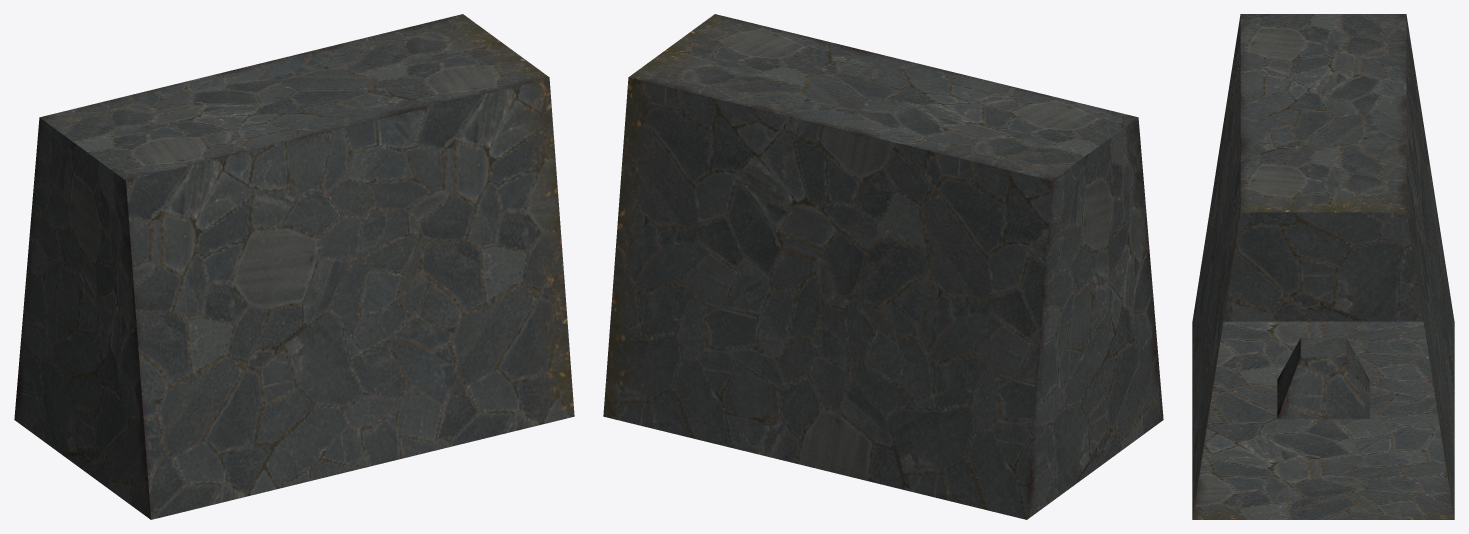
File: Crpyt_Inside_Lars.fbx
3 views of the same model, side by side, from view 1: azimuth 30°, elevation 25°; view 2: azimuth 150°, elevation 25°; view 3: azimuth 270°, elevation 25° (orthographic). The views are drawn at different scales.
Visible parts, largest first — view 1: Crypt Inside; view 2: Crypt Inside; view 3: Crypt Inside.
Boxes of the visible parts, x1,y1,x2,y2 form: Crypt Inside: (14, 14, 574, 519); Crypt Inside: (603, 14, 1163, 519); Crypt Inside: (1192, 14, 1454, 519).
Size of the model in its own units: 592 by 435 by 331.
